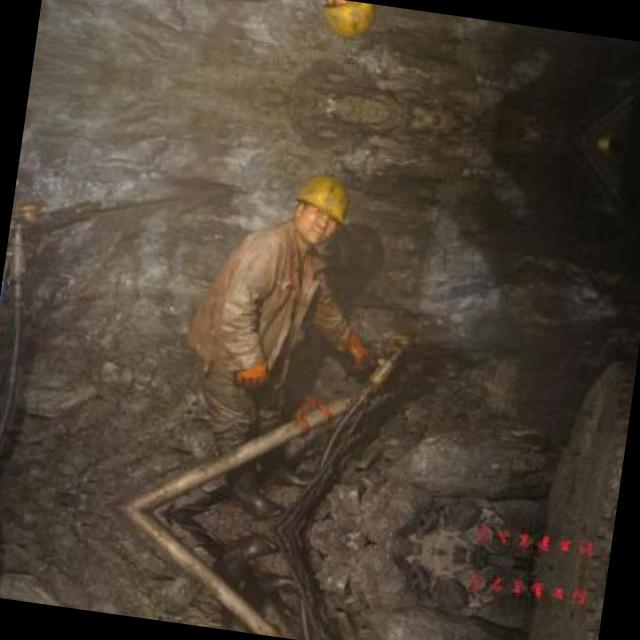helmet: (280, 165, 360, 254), (308, 0, 384, 48)
